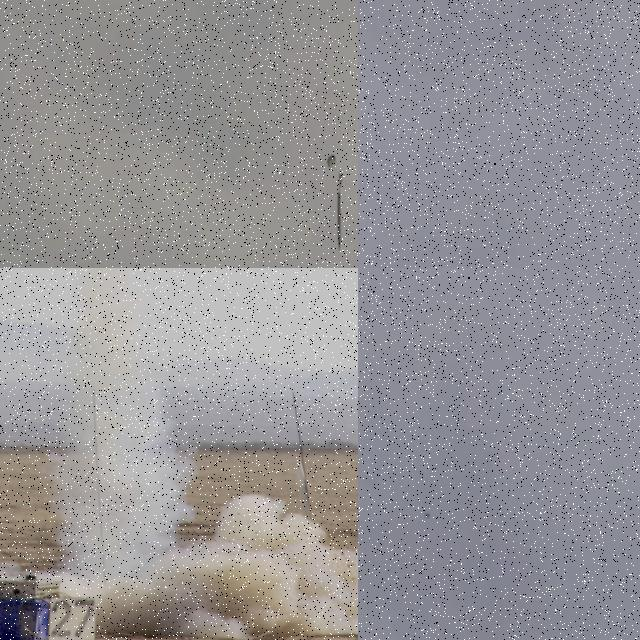Rocket: (424, 512, 430, 518)
